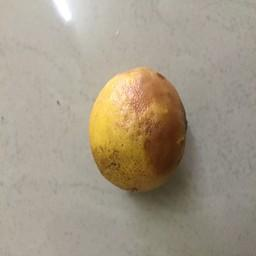Bad_lime: (83, 60, 190, 196)
